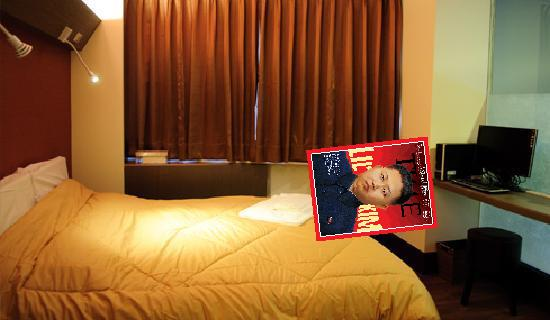times: (304, 135, 440, 240)
